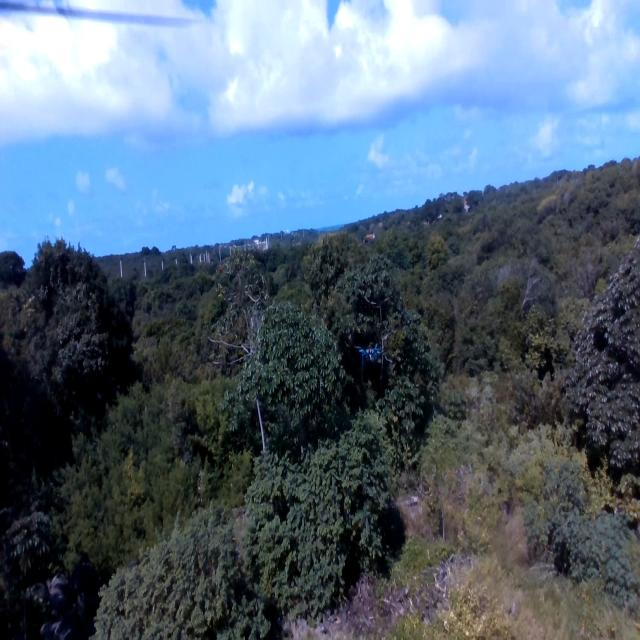-uav-: (353, 339, 382, 375)
